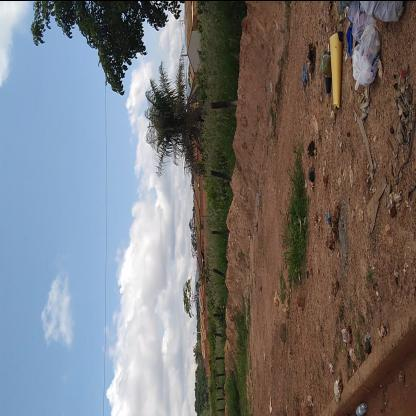lixo: (327, 0, 399, 88)
